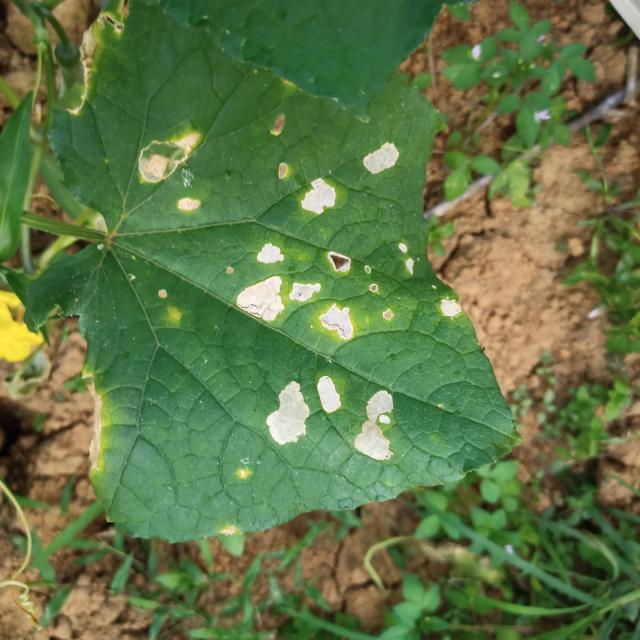disease_cucumber: (236, 240, 356, 346), (265, 375, 344, 447), (138, 131, 203, 214), (355, 389, 396, 465), (300, 177, 338, 217), (362, 141, 402, 178), (396, 235, 418, 278), (437, 296, 463, 319)
